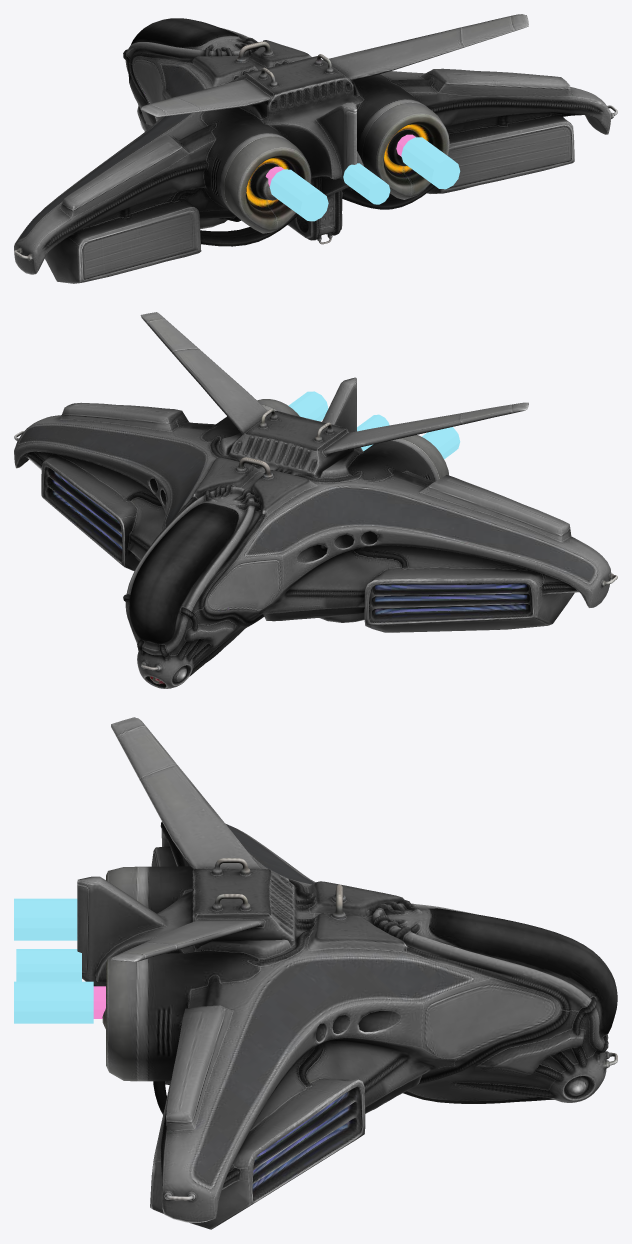
Rendered from intergalactic.glb.
3 renders of one model, top to bottom at view 1: azimuth 30°, elevation 25°; view 2: azimuth 150°, elevation 25°; view 3: azimuth 270°, elevation 25°, orthographic. The views are drawn at different scales.
Visible parts, largest first — view 1: Hull, Plume_L, Plume_R, Plume_C; view 2: Hull, Plume_R, Plume_L; view 3: Hull, Plume_R, Plume_L, Plume_C.
Part boxes in pixels (x1,y1,x2,y2): Hull: (14,14,617,283); Plume_L: (269,169,328,221); Plume_R: (401,137,460,189); Plume_C: (343,163,390,204); Hull: (14,312,617,688); Plume_R: (288,391,328,421); Plume_L: (422,427,460,459); Hull: (77,717,617,1229); Plume_R: (14,981,93,1023); Plume_L: (14,898,77,940); Plume_C: (16,949,81,981).
Size of the model in its own units: 3.82 by 1.24 by 2.58.
Materials: 3 (1 with a texture image).
